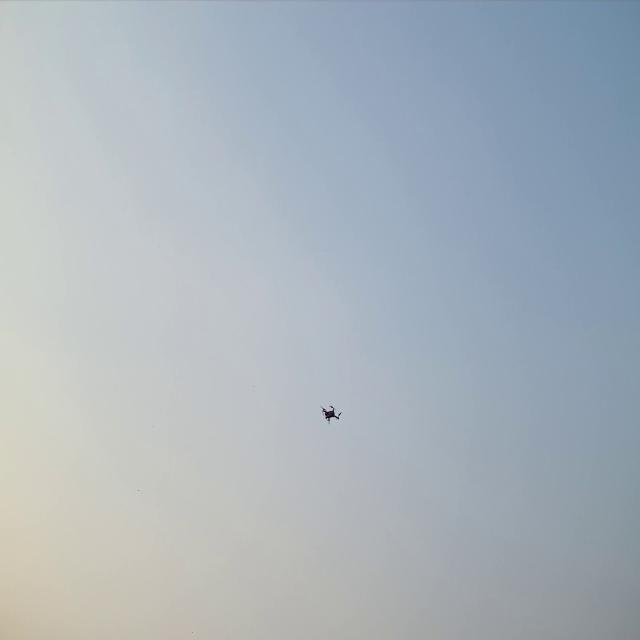UAV: (318, 403, 344, 427)
